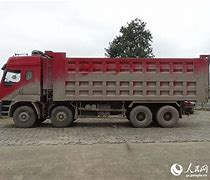bigtruck: (0, 49, 209, 129)
